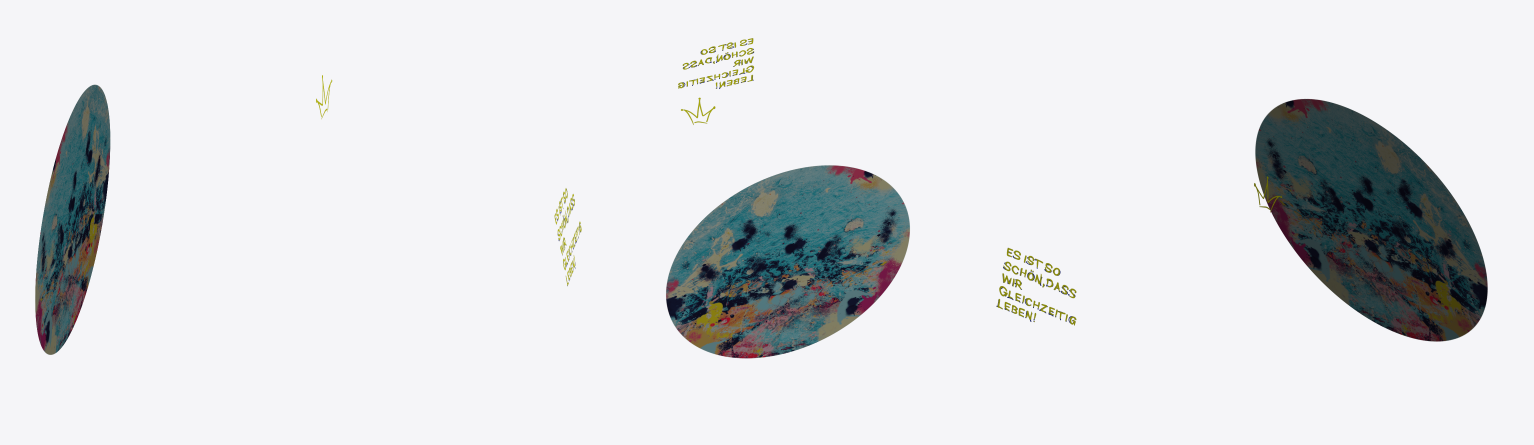
Rendered from queen_krone_gleichzeitig_leben-4.glb.
The picture shows the model from 3 angles, left to right: view 1: azimuth 30°, elevation 25°; view 2: azimuth 150°, elevation 25°; view 3: azimuth 270°, elevation 25°; orthographic projection. The views are drawn at different scales.
Visible parts, largest first — view 1: Fläche, Fläche.002; view 2: Fläche, Fläche.002; view 3: Fläche, Fläche.002.
Part boxes in pixels (x1,y1,x2,y2): Fläche: [35, 84, 110, 354]; Fläche.002: [554, 188, 581, 285]; Fläche: [666, 165, 909, 358]; Fläche.002: [678, 38, 753, 88]; Fläche: [1255, 99, 1487, 341]; Fläche.002: [996, 248, 1076, 325].
Bounding box in the file's own units: 1.15 × 0.9604 × 1.29.
Materials: 3 (3 with a texture image).
